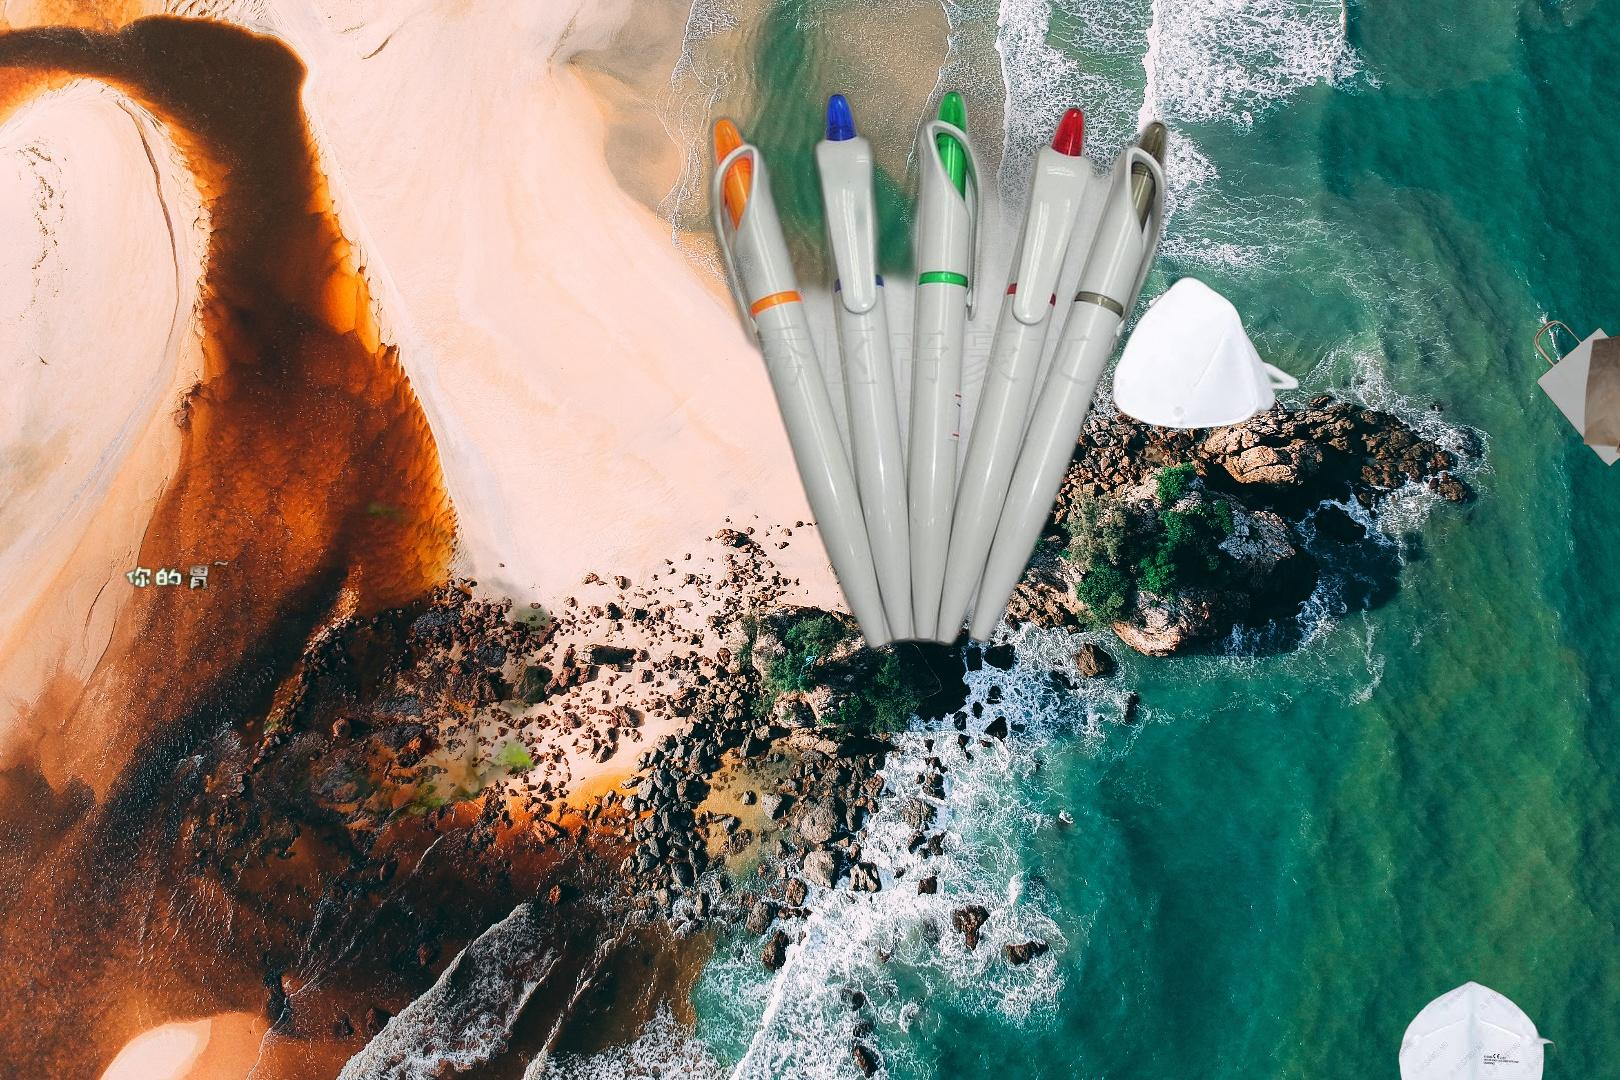biological: (71, 471, 551, 858)
paper-bag: (1531, 317, 1620, 470)
penholder: (700, 67, 1176, 661), (1281, 820, 1620, 1080)
trash: (1108, 275, 1302, 432), (1336, 978, 1573, 1080)
